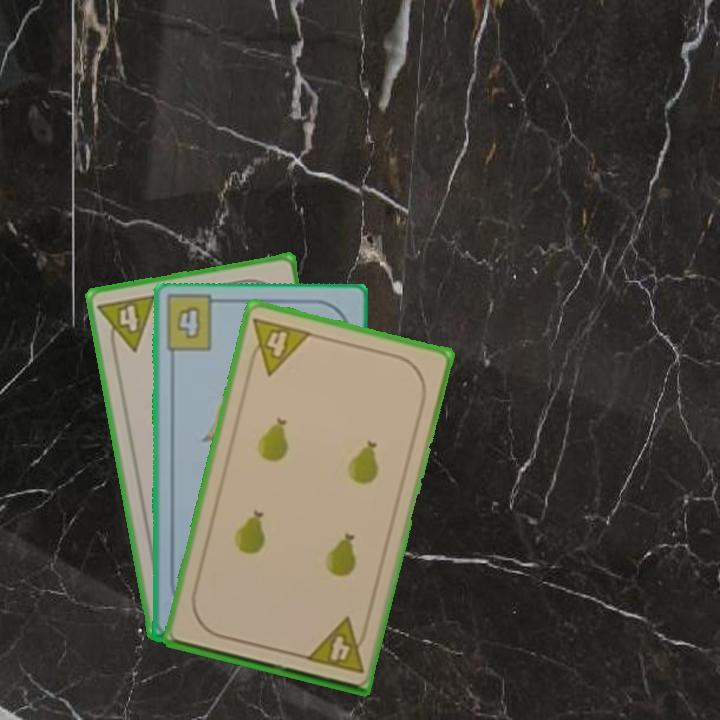4b: (173, 302, 204, 341)
4p: (243, 313, 314, 378), (94, 291, 159, 358), (302, 614, 371, 676)
